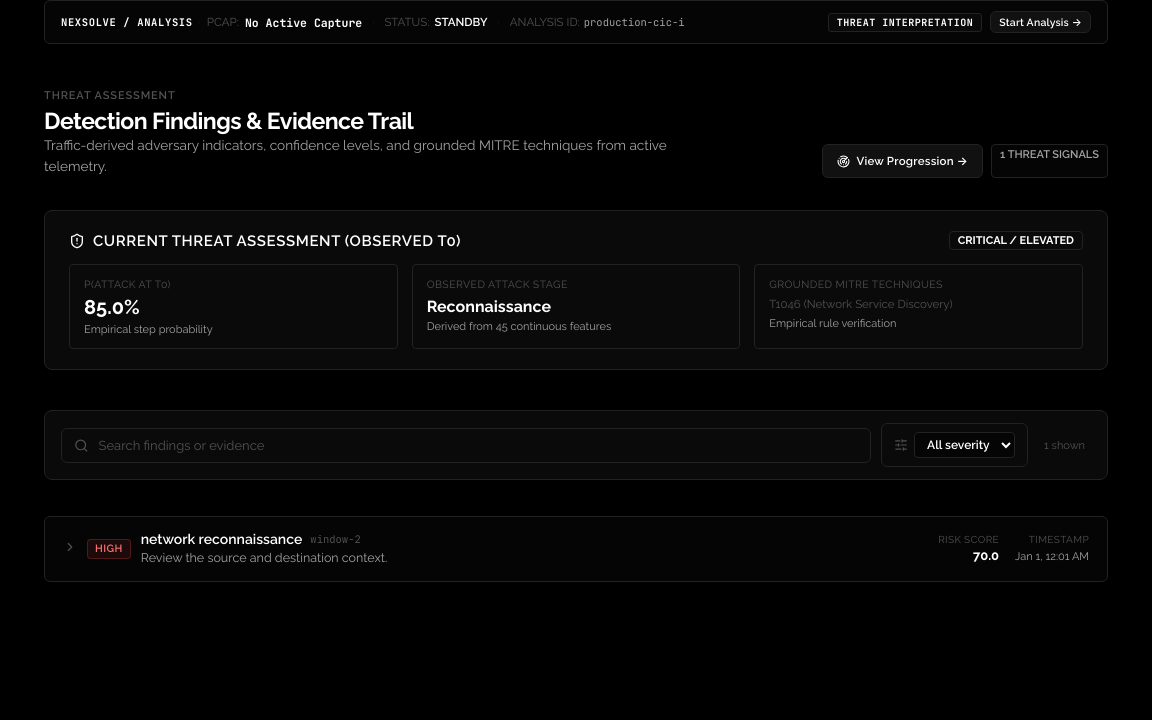
it: Threats › supports search and severity filtering
Expected: the heading "network reconnaissance" is shown, [141,531,302,547]
Type "network reconnaissance" into the field labelled "Search findings" at (477, 445), box [97,437,858,454]
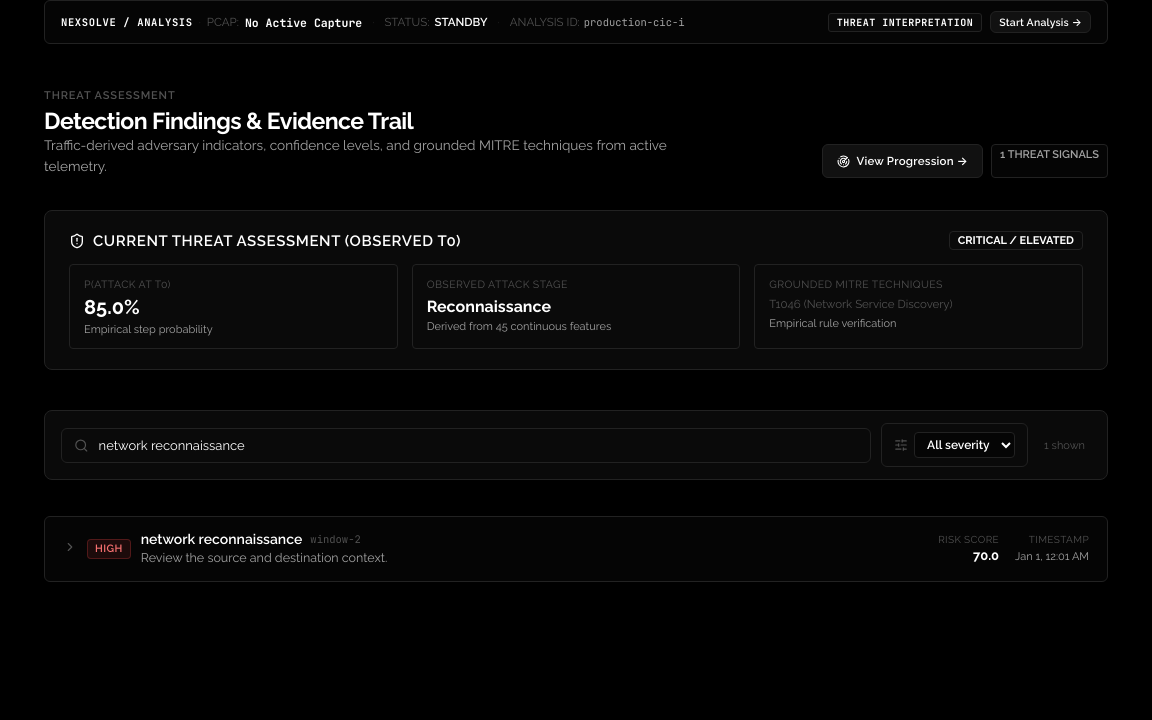
Expected: the heading "network reconnaissance" is shown, [141,531,302,547]
Replace the text in the field named "Search findings" with "not present" at (477, 445), box [97,437,858,454]
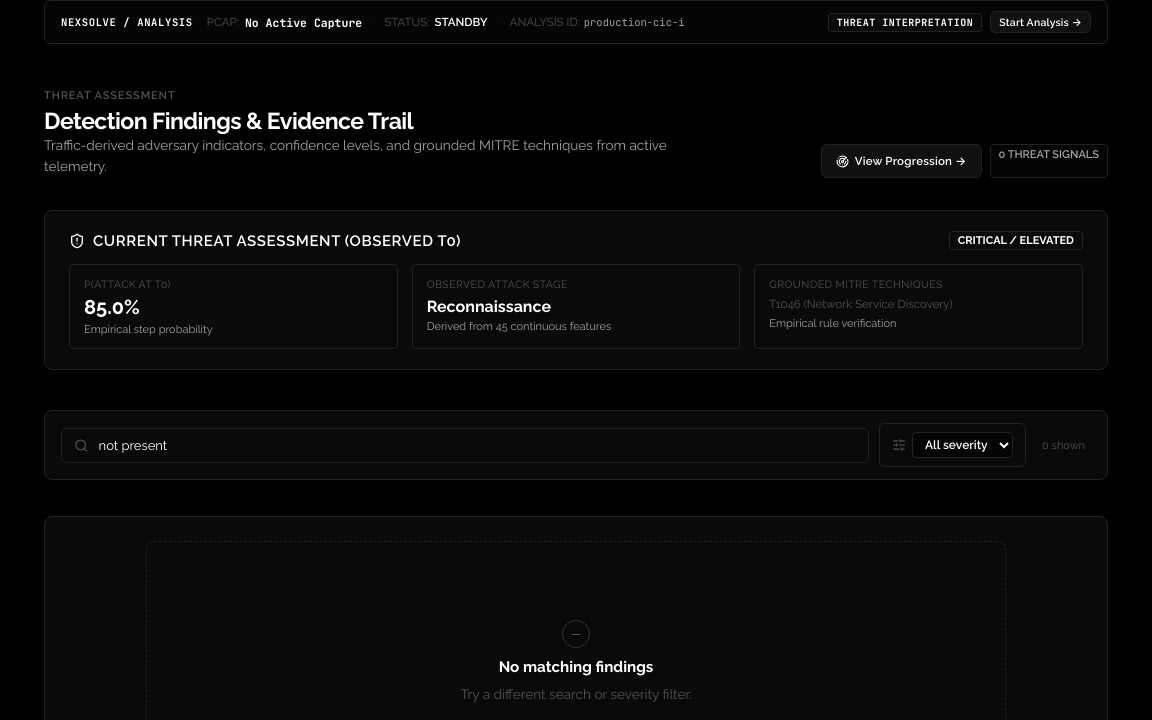
Expected: the text "No matching findings" is shown, [499,658,653,676]
Clear the field named "Search findings" at (476, 445), box [97,437,856,454]
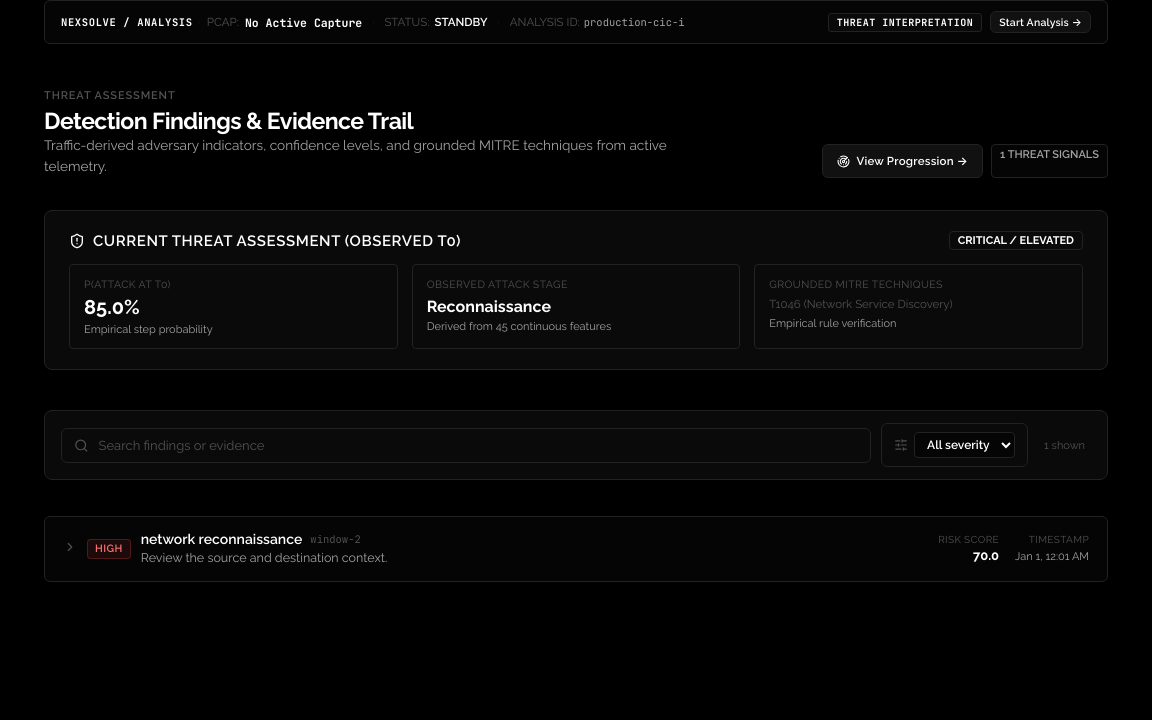
Select "Low" in the dropdown named "Filter severity" at (964, 445), box [914,432,1015,458]
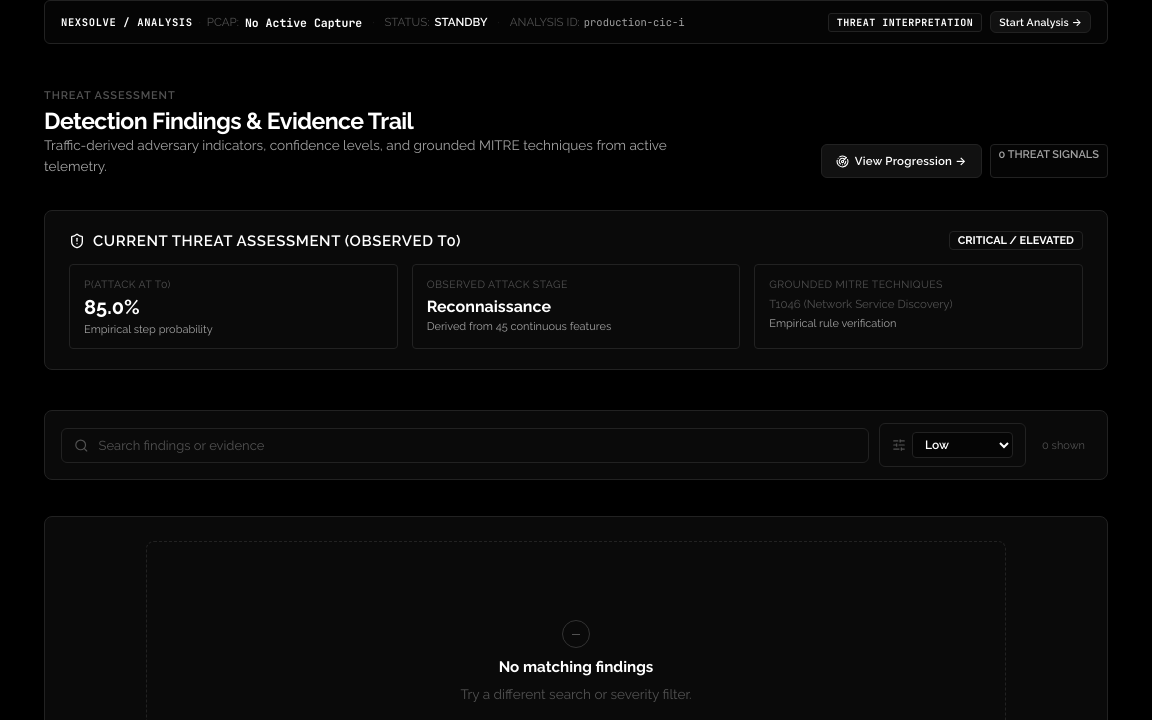
Expected: the text "No matching findings" is shown, [499,658,653,676]
